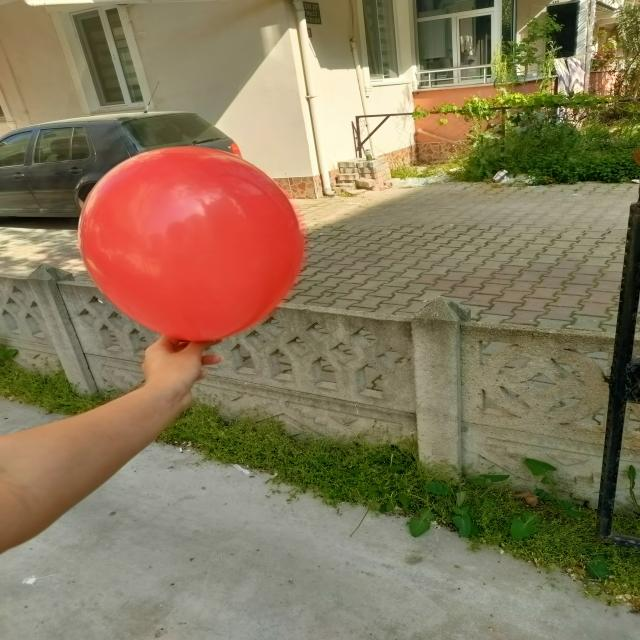red: (78, 150, 306, 343)
